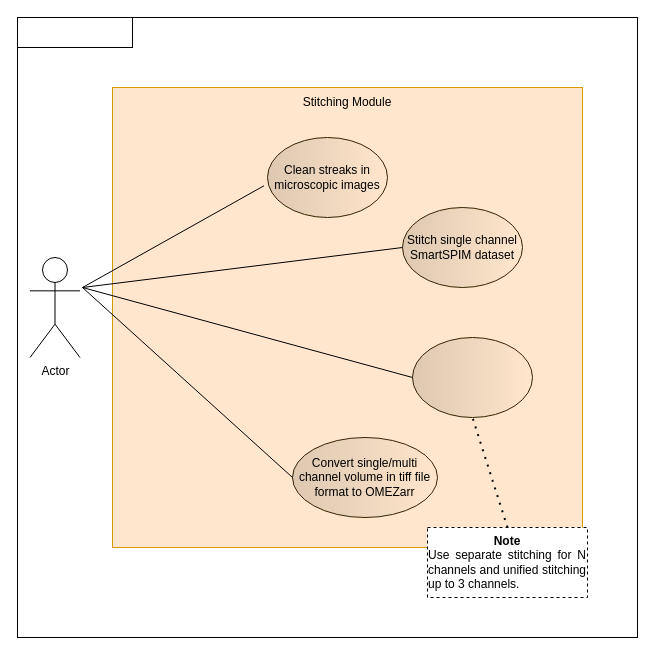
Some shapes in this 655 by 655 pixel diagram are drawn without their labels. The shapes that lost their labels are listed below. From the top down, each one's centre as x and y in pixels, then its label:
At [74,32]: "SmartSPIM Stitcher".
At [472,377]: "Stitch multichannel SmartSPIM dataset".
